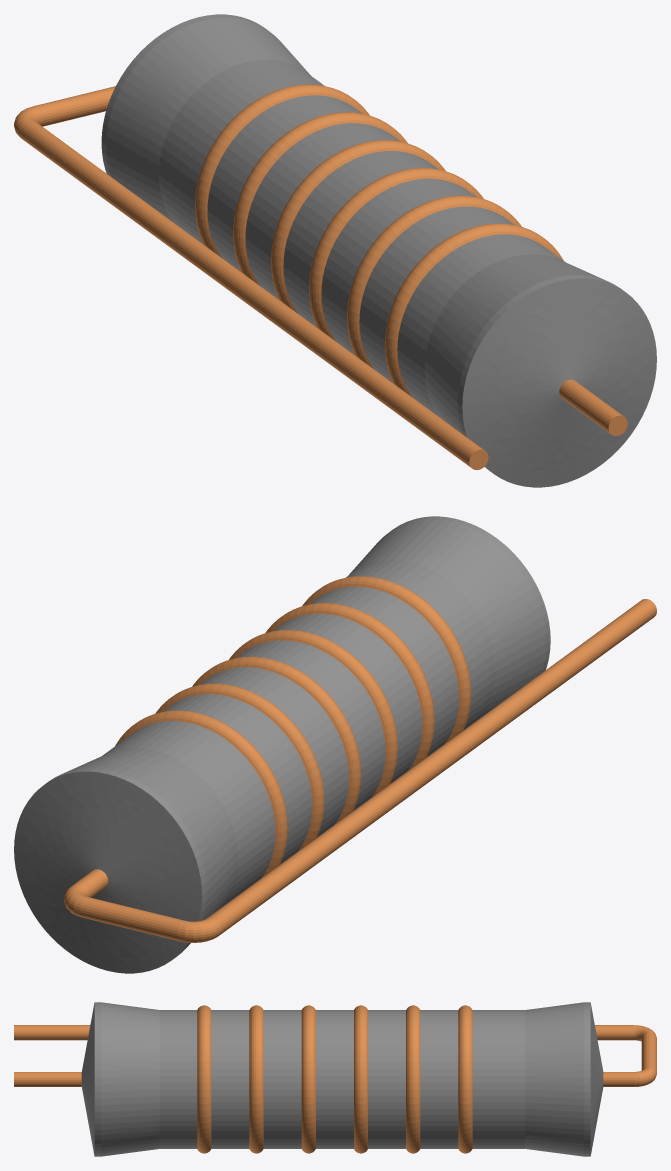
File: L_Axial_L24.0mm_D7.1mm_P5.08mm_Vertical_Vishay_IM-10-28.glb
The picture shows the model from 3 angles, top to bottom: view 1: azimuth 30°, elevation 25°; view 2: azimuth 150°, elevation 25°; view 3: azimuth 270°, elevation 25°; orthographic projection. The views are drawn at different scales.
Visible parts, largest first — view 1: Shape_IndexedFaceSet.002, Shape_IndexedFaceSet.018, Shape_IndexedFaceSet.025, Shape_IndexedFaceSet.017, Shape_IndexedFaceSet.004, Shape_IndexedFaceSet.005, Shape_IndexedFaceSet.007, Shape_IndexedFaceSet.009, Shape_IndexedFaceSet.013, Shape_IndexedFaceSet.015, Shape_IndexedFaceSet.011, Shape_IndexedFaceSet.006 (+9 smaller); view 2: Shape_IndexedFaceSet.020, Shape_IndexedFaceSet.004, Shape_IndexedFaceSet.025, Shape_IndexedFaceSet.017, Shape_IndexedFaceSet.018, Shape_IndexedFaceSet.009, Shape_IndexedFaceSet.015, Shape_IndexedFaceSet.011, Shape_IndexedFaceSet.007, Shape_IndexedFaceSet.013, Shape_IndexedFaceSet.005, Shape_IndexedFaceSet.016 (+9 smaller); view 3: Shape_IndexedFaceSet.018, Shape_IndexedFaceSet.004, Shape_IndexedFaceSet.017, Shape_IndexedFaceSet.005, Shape_IndexedFaceSet.007, Shape_IndexedFaceSet.009, Shape_IndexedFaceSet.015, Shape_IndexedFaceSet.011, Shape_IndexedFaceSet.013, Shape_IndexedFaceSet.008, Shape_IndexedFaceSet.016, Shape_IndexedFaceSet.006 (+12 smaller).
Boxes of the visible parts, x1,y1,x2,y2 form: Shape_IndexedFaceSet.002: (462, 278, 656, 487); Shape_IndexedFaceSet.018: (106, 18, 310, 222); Shape_IndexedFaceSet.025: (18, 119, 484, 467); Shape_IndexedFaceSet.017: (158, 59, 324, 243); Shape_IndexedFaceSet.004: (424, 254, 604, 433); Shape_IndexedFaceSet.005: (397, 234, 564, 416); Shape_IndexedFaceSet.007: (359, 206, 514, 382); Shape_IndexedFaceSet.009: (321, 178, 476, 354); Shape_IndexedFaceSet.013: (245, 123, 400, 299); Shape_IndexedFaceSet.015: (207, 95, 362, 271); Shape_IndexedFaceSet.011: (283, 151, 438, 327); Shape_IndexedFaceSet.006: (385, 223, 563, 397); Shape_IndexedFaceSet.020: (14, 771, 201, 973); Shape_IndexedFaceSet.004: (348, 519, 546, 717); Shape_IndexedFaceSet.025: (207, 599, 656, 935); Shape_IndexedFaceSet.017: (102, 721, 275, 905); Shape_IndexedFaceSet.018: (65, 748, 238, 944); Shape_IndexedFaceSet.009: (272, 613, 422, 783); Shape_IndexedFaceSet.015: (162, 694, 312, 864); Shape_IndexedFaceSet.011: (236, 640, 385, 810); Shape_IndexedFaceSet.007: (309, 586, 458, 756); Shape_IndexedFaceSet.013: (199, 667, 348, 837); Shape_IndexedFaceSet.005: (346, 560, 495, 730); Shape_IndexedFaceSet.016: (115, 710, 287, 878); Shape_IndexedFaceSet.018: (525, 1002, 584, 1156); Shape_IndexedFaceSet.004: (101, 1002, 159, 1156); Shape_IndexedFaceSet.017: (472, 1010, 525, 1148); Shape_IndexedFaceSet.005: (159, 1010, 197, 1148); Shape_IndexedFaceSet.007: (211, 1010, 249, 1148); Shape_IndexedFaceSet.009: (263, 1010, 301, 1148); Shape_IndexedFaceSet.015: (420, 1010, 458, 1148); Shape_IndexedFaceSet.011: (316, 1010, 353, 1148); Shape_IndexedFaceSet.013: (368, 1010, 405, 1148); Shape_IndexedFaceSet.008: (249, 1005, 263, 1153); Shape_IndexedFaceSet.016: (458, 1005, 472, 1153); Shape_IndexedFaceSet.006: (197, 1005, 211, 1153).
Size of the model in its own units: 3.53 by 2.8 by 11.63.
